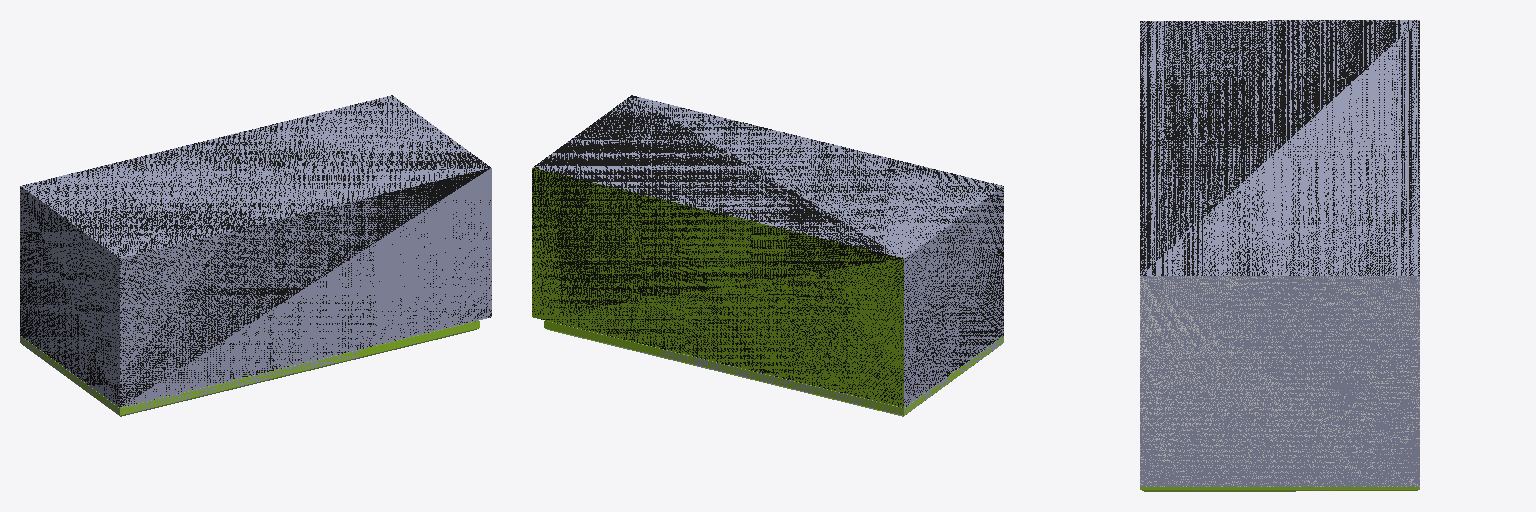
URDF robot description (fridge):
<?xml version="1.0" ?>
<robot name="fridge">
	<link name="base"/>
	<link name="link_0">
		<visual name="out-frame">
			<origin xyz="0 0 0"/>
			<geometry>
				<mesh filename="texture_dae/frame.dae" scale="0.7 0.7 0.7"/>
			</geometry>
		</visual>
		<collision>
			<origin xyz="0 0 0"/>
			<geometry>
				<mesh filename="texture_dae/frame.dae" scale="0.7 0.7 0.7"/>
			</geometry>
		</collision>
	</link>
	<joint name="joint_0" type="fixed">
		<origin rpy="1.570796326794897 0 -1.570796326794897" xyz="0 0 0"/>
		<child link="link_0"/>
		<parent link="base"/>
	</joint>
	<link name="link_1">
		<visual name="surf-board">
			<origin xyz="0.5808480308151842 -0.47162427641451354 0"/>
			<geometry>
				<mesh filename="texture_dae/board.dae" scale="0.7 0.7 0.7"/>
			</geometry>
		</visual>
		<collision>
			<origin xyz="0.5808480308151842 -0.47162427641451354 0"/>
			<geometry>
				<mesh filename="texture_dae/board.dae" scale="0.7 0.7 0.7"/>
			</geometry>
		</collision>
	</link>
	<joint name="joint_1" type="revolute">
		<origin xyz="-0.5808480308151842 0.47162427641451354 0"/>
		<axis xyz="0 -1 0"/>
		<child link="link_1"/>
		<parent link="link_0"/>
		<limit lower="0" upper="1.5079644737231006"/>
	</joint>
	<link name="link_2">
		<visual name="handle">
			<origin xyz="0 0 0"/>
			<geometry>
				<mesh filename="texture_dae/9960021.dae" scale="1 1 1"/>
			</geometry>
		</visual>
		<collision>
			<origin xyz="0 0 0"/>
			<geometry>
				<mesh filename="texture_dae/9960021.dae" scale="1 1 1"/>
			</geometry>
		</collision>
	</link>
	<joint name="joint_2" type="revolute">
		<origin xyz="0.5808480308151842 -0.47162427641451354 0.02010948246323778"/>
		<child link="link_2"/>
		<parent link="link_1"/>
		<axis xyz="0 0 1"/>
		<limit lower="0" upper="1.5079644737231006"/>
	</joint>
</robot>

--- What the picture shows (computed from the rendered views, not written in the file) ---
Views: 3 orthographic renders of the robot side by side, from view 1: azimuth 30°, elevation 25°; view 2: azimuth 150°, elevation 25°; view 3: azimuth 270°, elevation 25°.
Robot: fridge — 4 links, 3 joints (2 revolute, 1 fixed); root link base; default pose: every joint at zero.
Links seen in each view (by area): view 1: link_0, link_1; view 2: link_0, link_1; view 3: link_0, link_1.
Boxes of the visible links, x1=… form: link_0: x1=20, y1=95, x2=491, y2=407; link_1: x1=20, y1=321, x2=479, y2=416; link_0: x1=532, y1=95, x2=1003, y2=407; link_1: x1=544, y1=321, x2=1003, y2=416; link_0: x1=1140, y1=20, x2=1419, y2=486; link_1: x1=1140, y1=487, x2=1419, y2=491.
Size in the robot's own frame: 1.39 by 0.6402 by 0.57 metres.
Meshes: 3 distinct files referenced, 2 mesh visuals loaded (2 Collada DAE); not drawn: 1 (reference not matched to a file when rendering).
